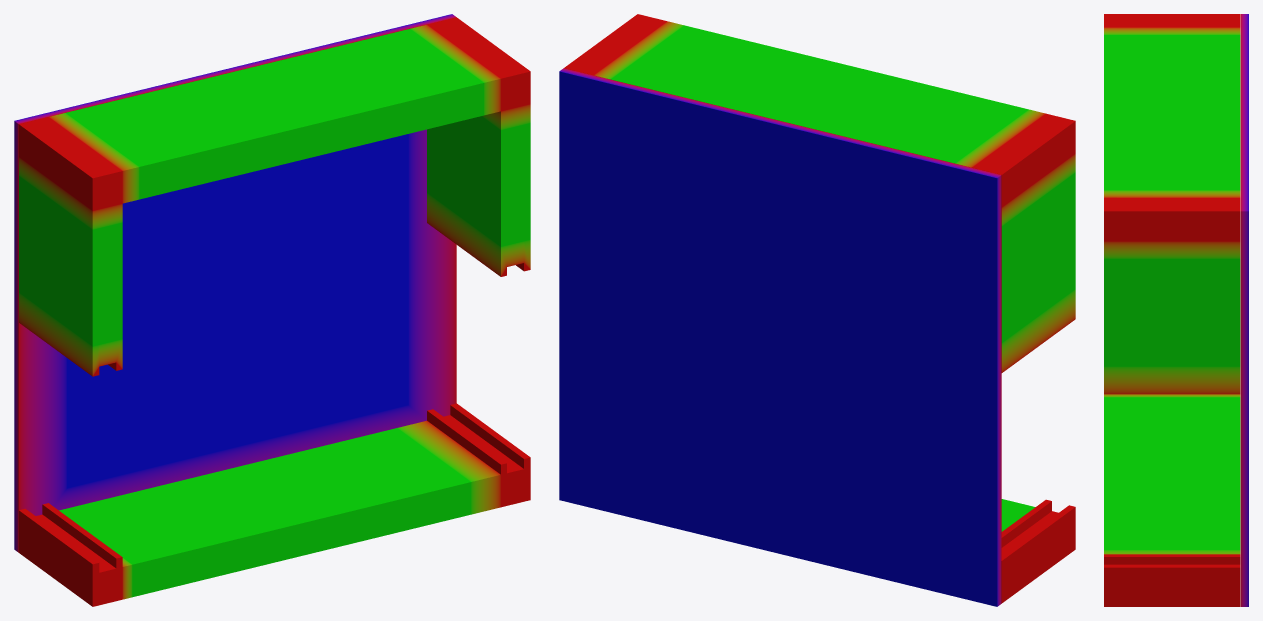
Rendered from elevator_body.fbx.
3 renders of one model, left to right at view 1: azimuth 30°, elevation 25°; view 2: azimuth 150°, elevation 25°; view 3: azimuth 270°, elevation 25°, orthographic. The views are drawn at different scales.
Parts seen in each view (by area): view 1: elevator_main_low, elevator_bg_low; view 2: elevator_bg_low, elevator_main_low; view 3: elevator_main_low, elevator_bg_low.
Boxes of the visible parts, x1,y1,x2,y2 form: elevator_main_low: (19, 17, 530, 606); elevator_bg_low: (14, 14, 456, 552); elevator_bg_low: (559, 68, 1001, 606); elevator_main_low: (564, 14, 1075, 603); elevator_main_low: (1104, 14, 1240, 606); elevator_bg_low: (1240, 14, 1248, 606).
Bounding box in the file's own units: 883 × 825 × 274.
